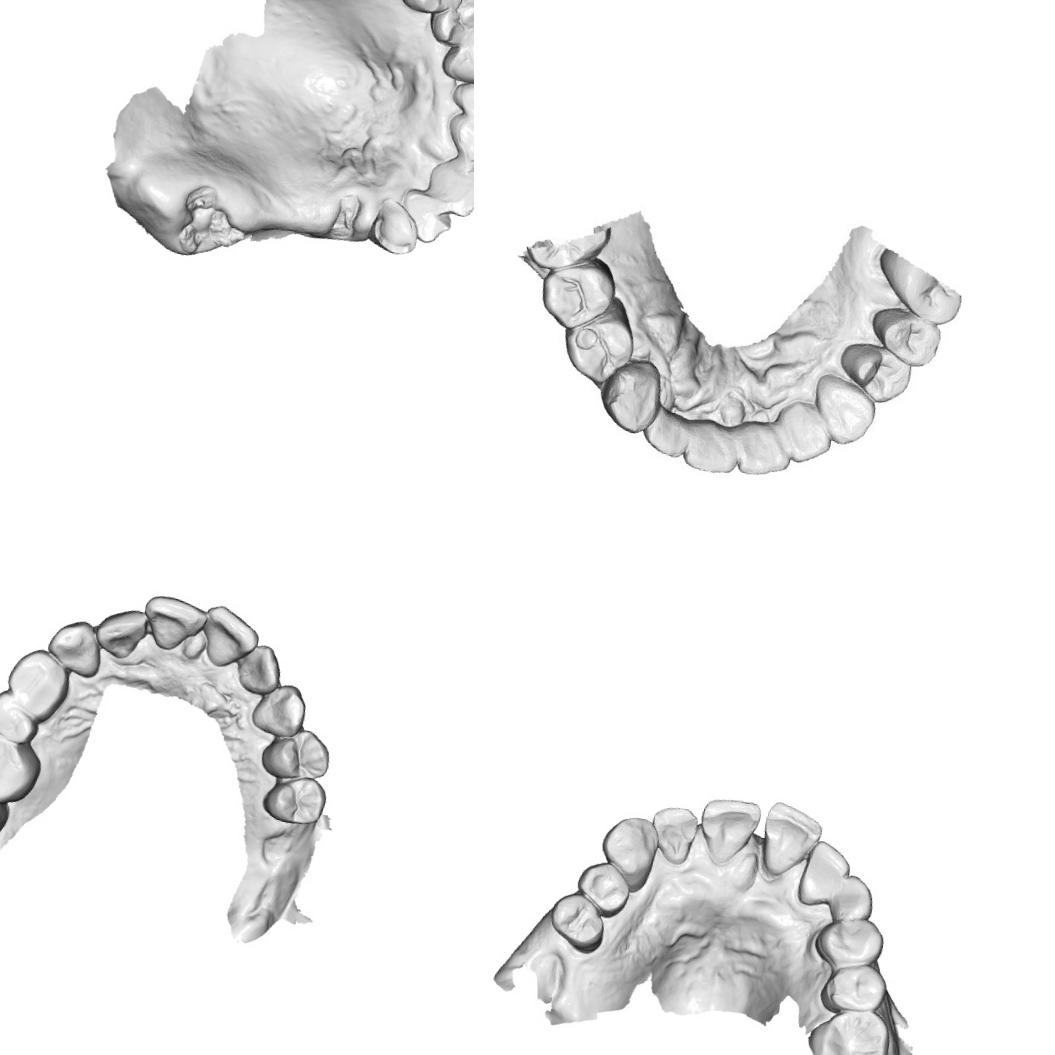canine: (594, 348, 670, 440), (806, 374, 880, 449), (594, 810, 664, 888), (40, 612, 106, 680), (364, 192, 425, 262), (247, 678, 309, 741), (824, 871, 878, 924), (438, 24, 474, 90)
incisor: (752, 797, 826, 883), (693, 790, 764, 869), (194, 598, 263, 676), (136, 590, 208, 658), (794, 837, 854, 912), (393, 185, 458, 248), (734, 422, 800, 484), (776, 402, 836, 470), (644, 801, 702, 867), (419, 153, 474, 222), (638, 397, 697, 461), (684, 416, 746, 475), (90, 602, 150, 662), (232, 640, 287, 700), (440, 108, 474, 176), (446, 70, 474, 122)
molar: (799, 1000, 893, 1055), (0, 721, 47, 808)
premolar: (532, 247, 621, 337), (557, 302, 637, 389), (0, 643, 75, 725), (256, 721, 335, 787), (810, 909, 888, 974), (815, 957, 890, 1022), (842, 339, 915, 403), (545, 888, 610, 957), (258, 768, 330, 830), (873, 306, 946, 366), (570, 856, 635, 921), (0, 685, 44, 748), (424, 0, 474, 53), (397, 0, 474, 20)
